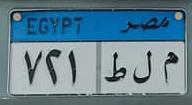1: (69, 49, 77, 84)
2: (46, 49, 62, 84)
7: (21, 49, 43, 84)
Taa: (104, 52, 129, 84)
laam: (133, 50, 153, 83)
meem: (161, 52, 179, 83)
